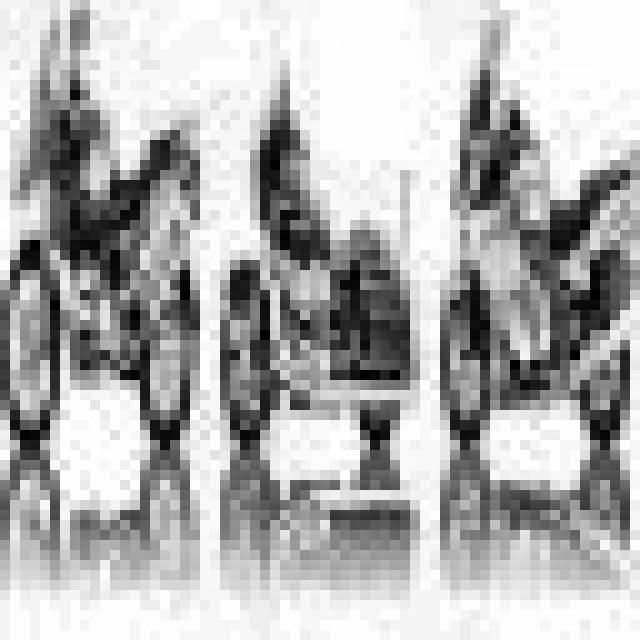mopeds: (5, 23, 204, 484), (430, 65, 640, 469), (223, 70, 420, 463)
